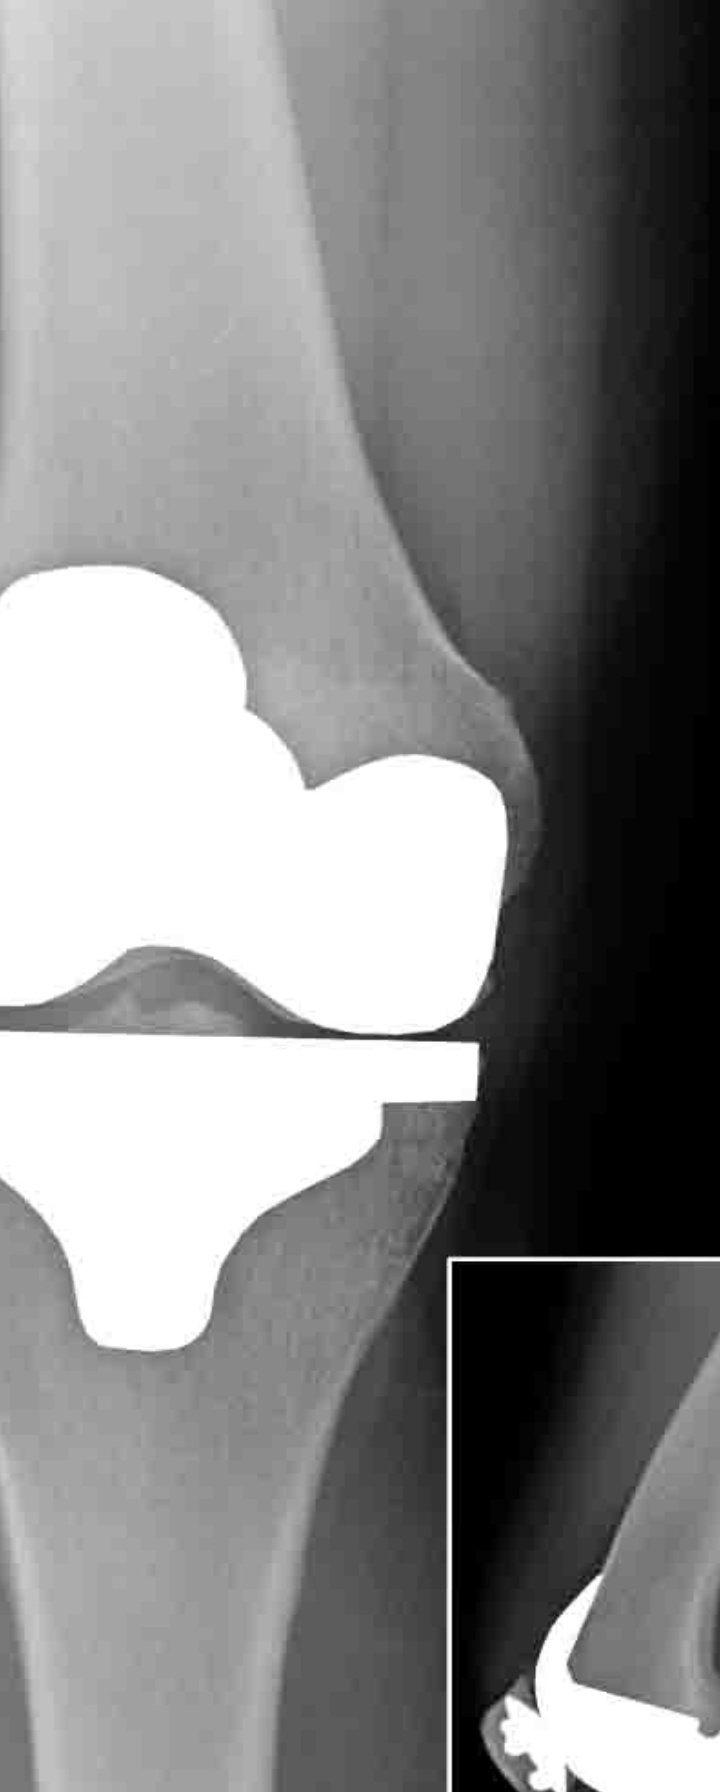Knee-TriathlonTritanium-Stryker: (1, 559, 594, 1387), (494, 1547, 720, 1790)
